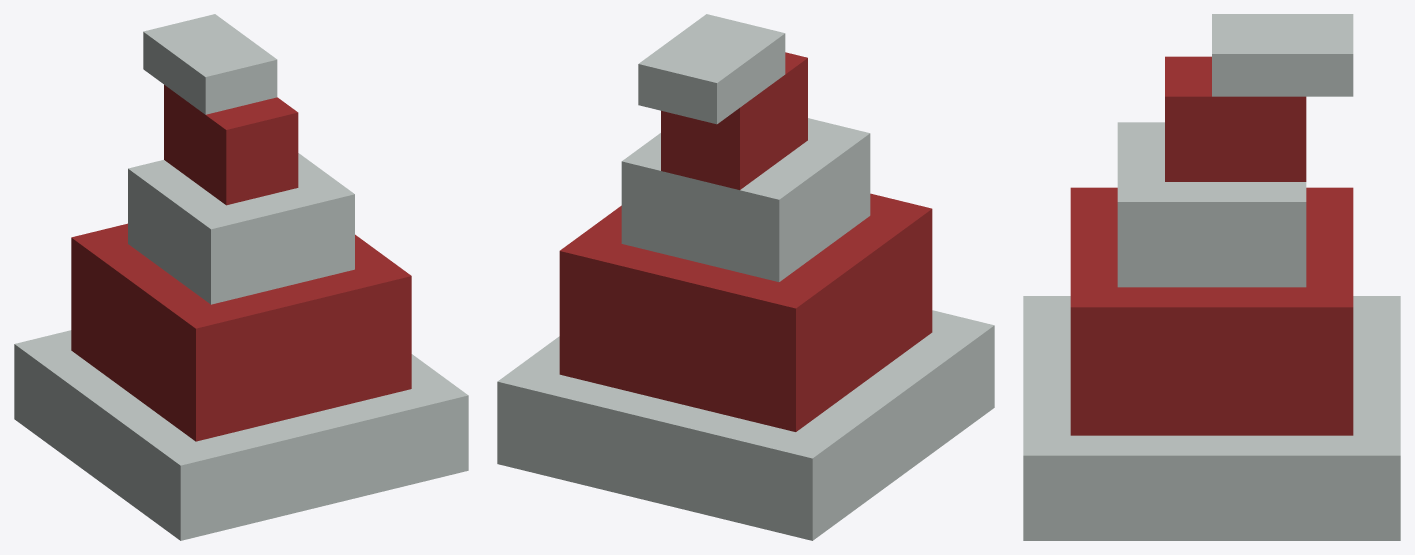
File: fun_hat.glb
3 views of the same model, side by side, from view 1: azimuth 30°, elevation 25°; view 2: azimuth 150°, elevation 25°; view 3: azimuth 270°, elevation 25° (orthographic). The views are drawn at different scales.
Visible parts, largest first — view 1: cube (×5); view 2: cube (×5); view 3: cube (×5).
Part boxes in pixels (x1,y1,x2,y2): cube (×5): (14, 14, 468, 540); cube (×5): (497, 14, 994, 540); cube (×5): (1023, 14, 1400, 540).
Size of the model in its own units: 0.5 by 0.625 by 0.5.
Materials: 2 (2 with a texture image).
